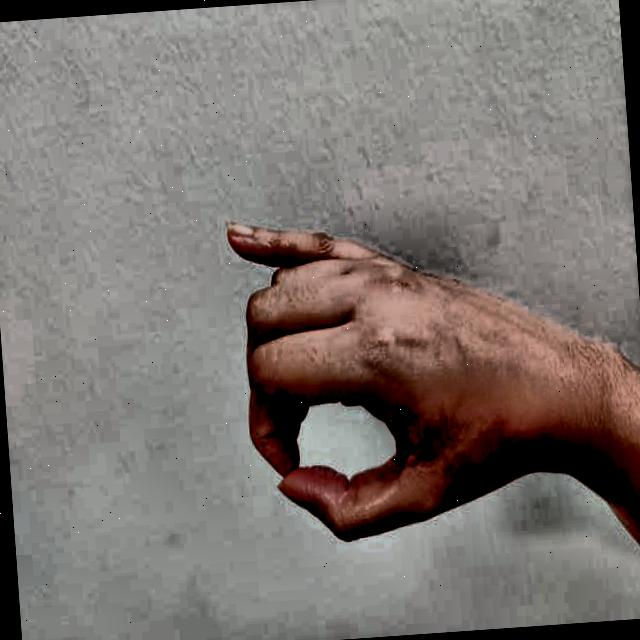Ou: (197, 154, 563, 571)
